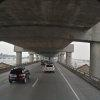Bridge: (3, 2, 94, 63)
